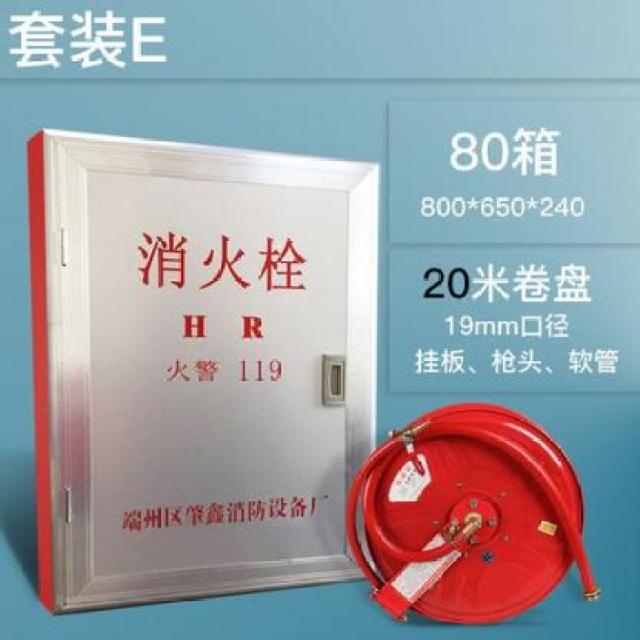firehydrant: (23, 123, 385, 625)
